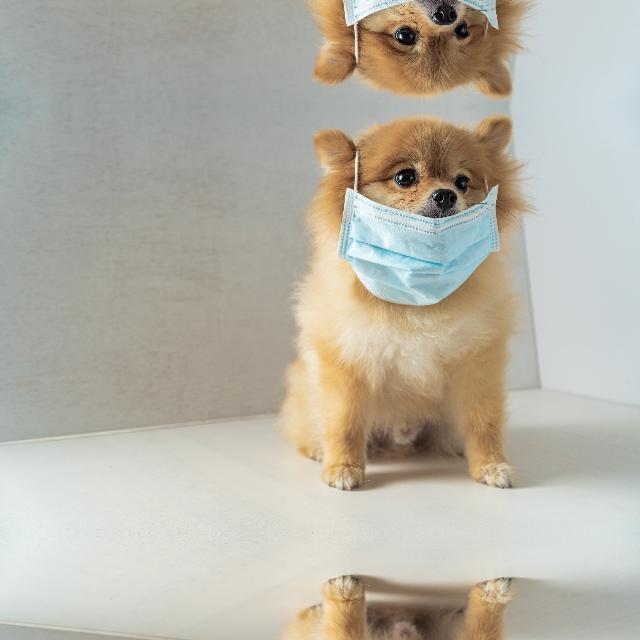dog: (282, 107, 562, 520), (282, 0, 562, 105), (282, 546, 562, 640)
